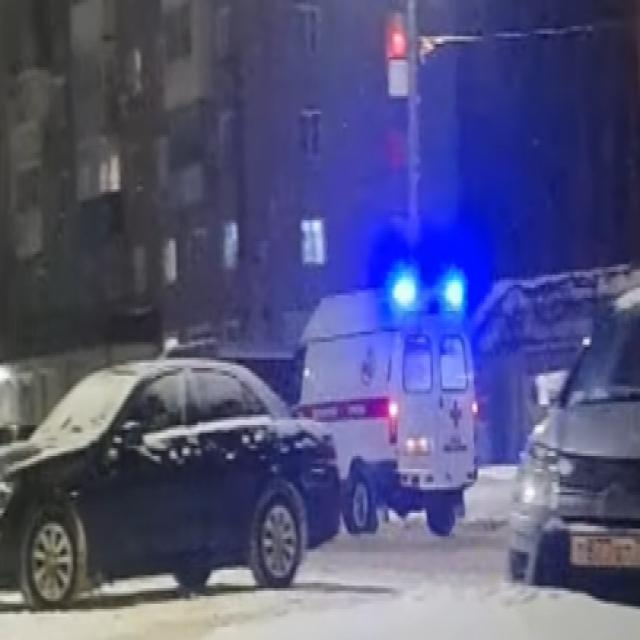ambulance: (290, 272, 475, 536)
non emergency car: (1, 359, 341, 615), (508, 278, 640, 610)
